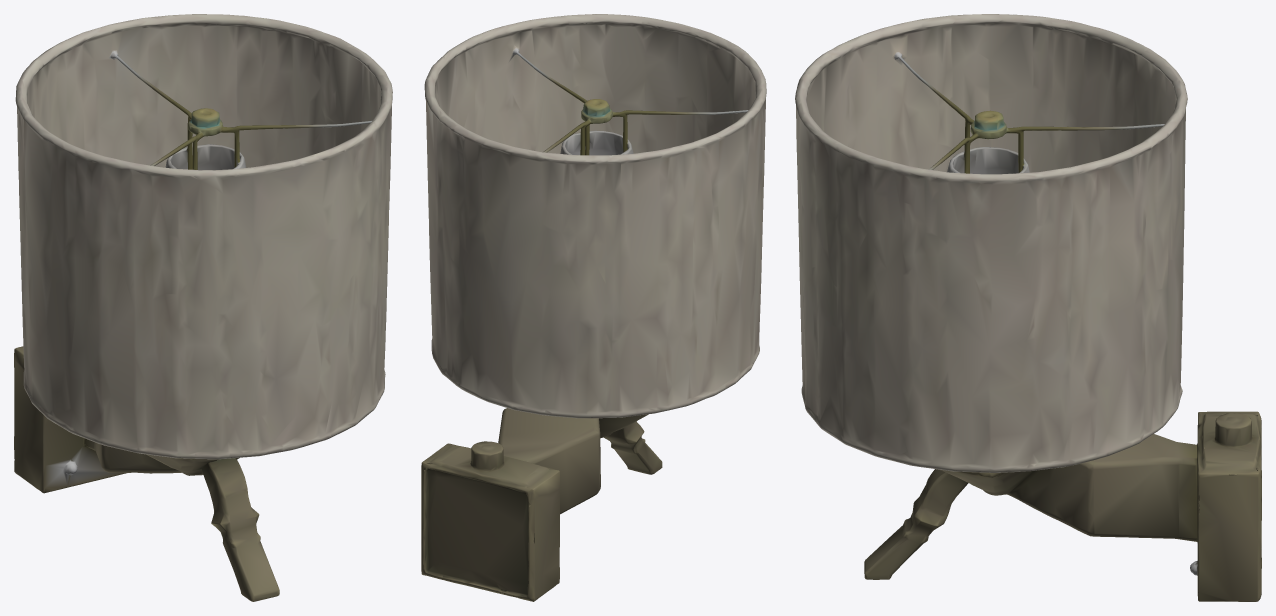
Rendered from wall_sconce.glb.
3 renders of one model, left to right at view 1: azimuth 30°, elevation 25°; view 2: azimuth 150°, elevation 25°; view 3: azimuth 270°, elevation 25°, orthographic. The views are drawn at different scales.
Bounding box in the file's own units: 0.7376 × 0.9981 × 0.882.
